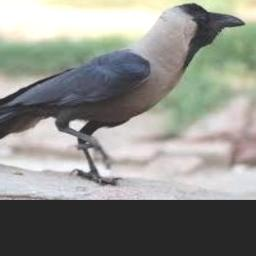Crow: (0, 2, 246, 186)
